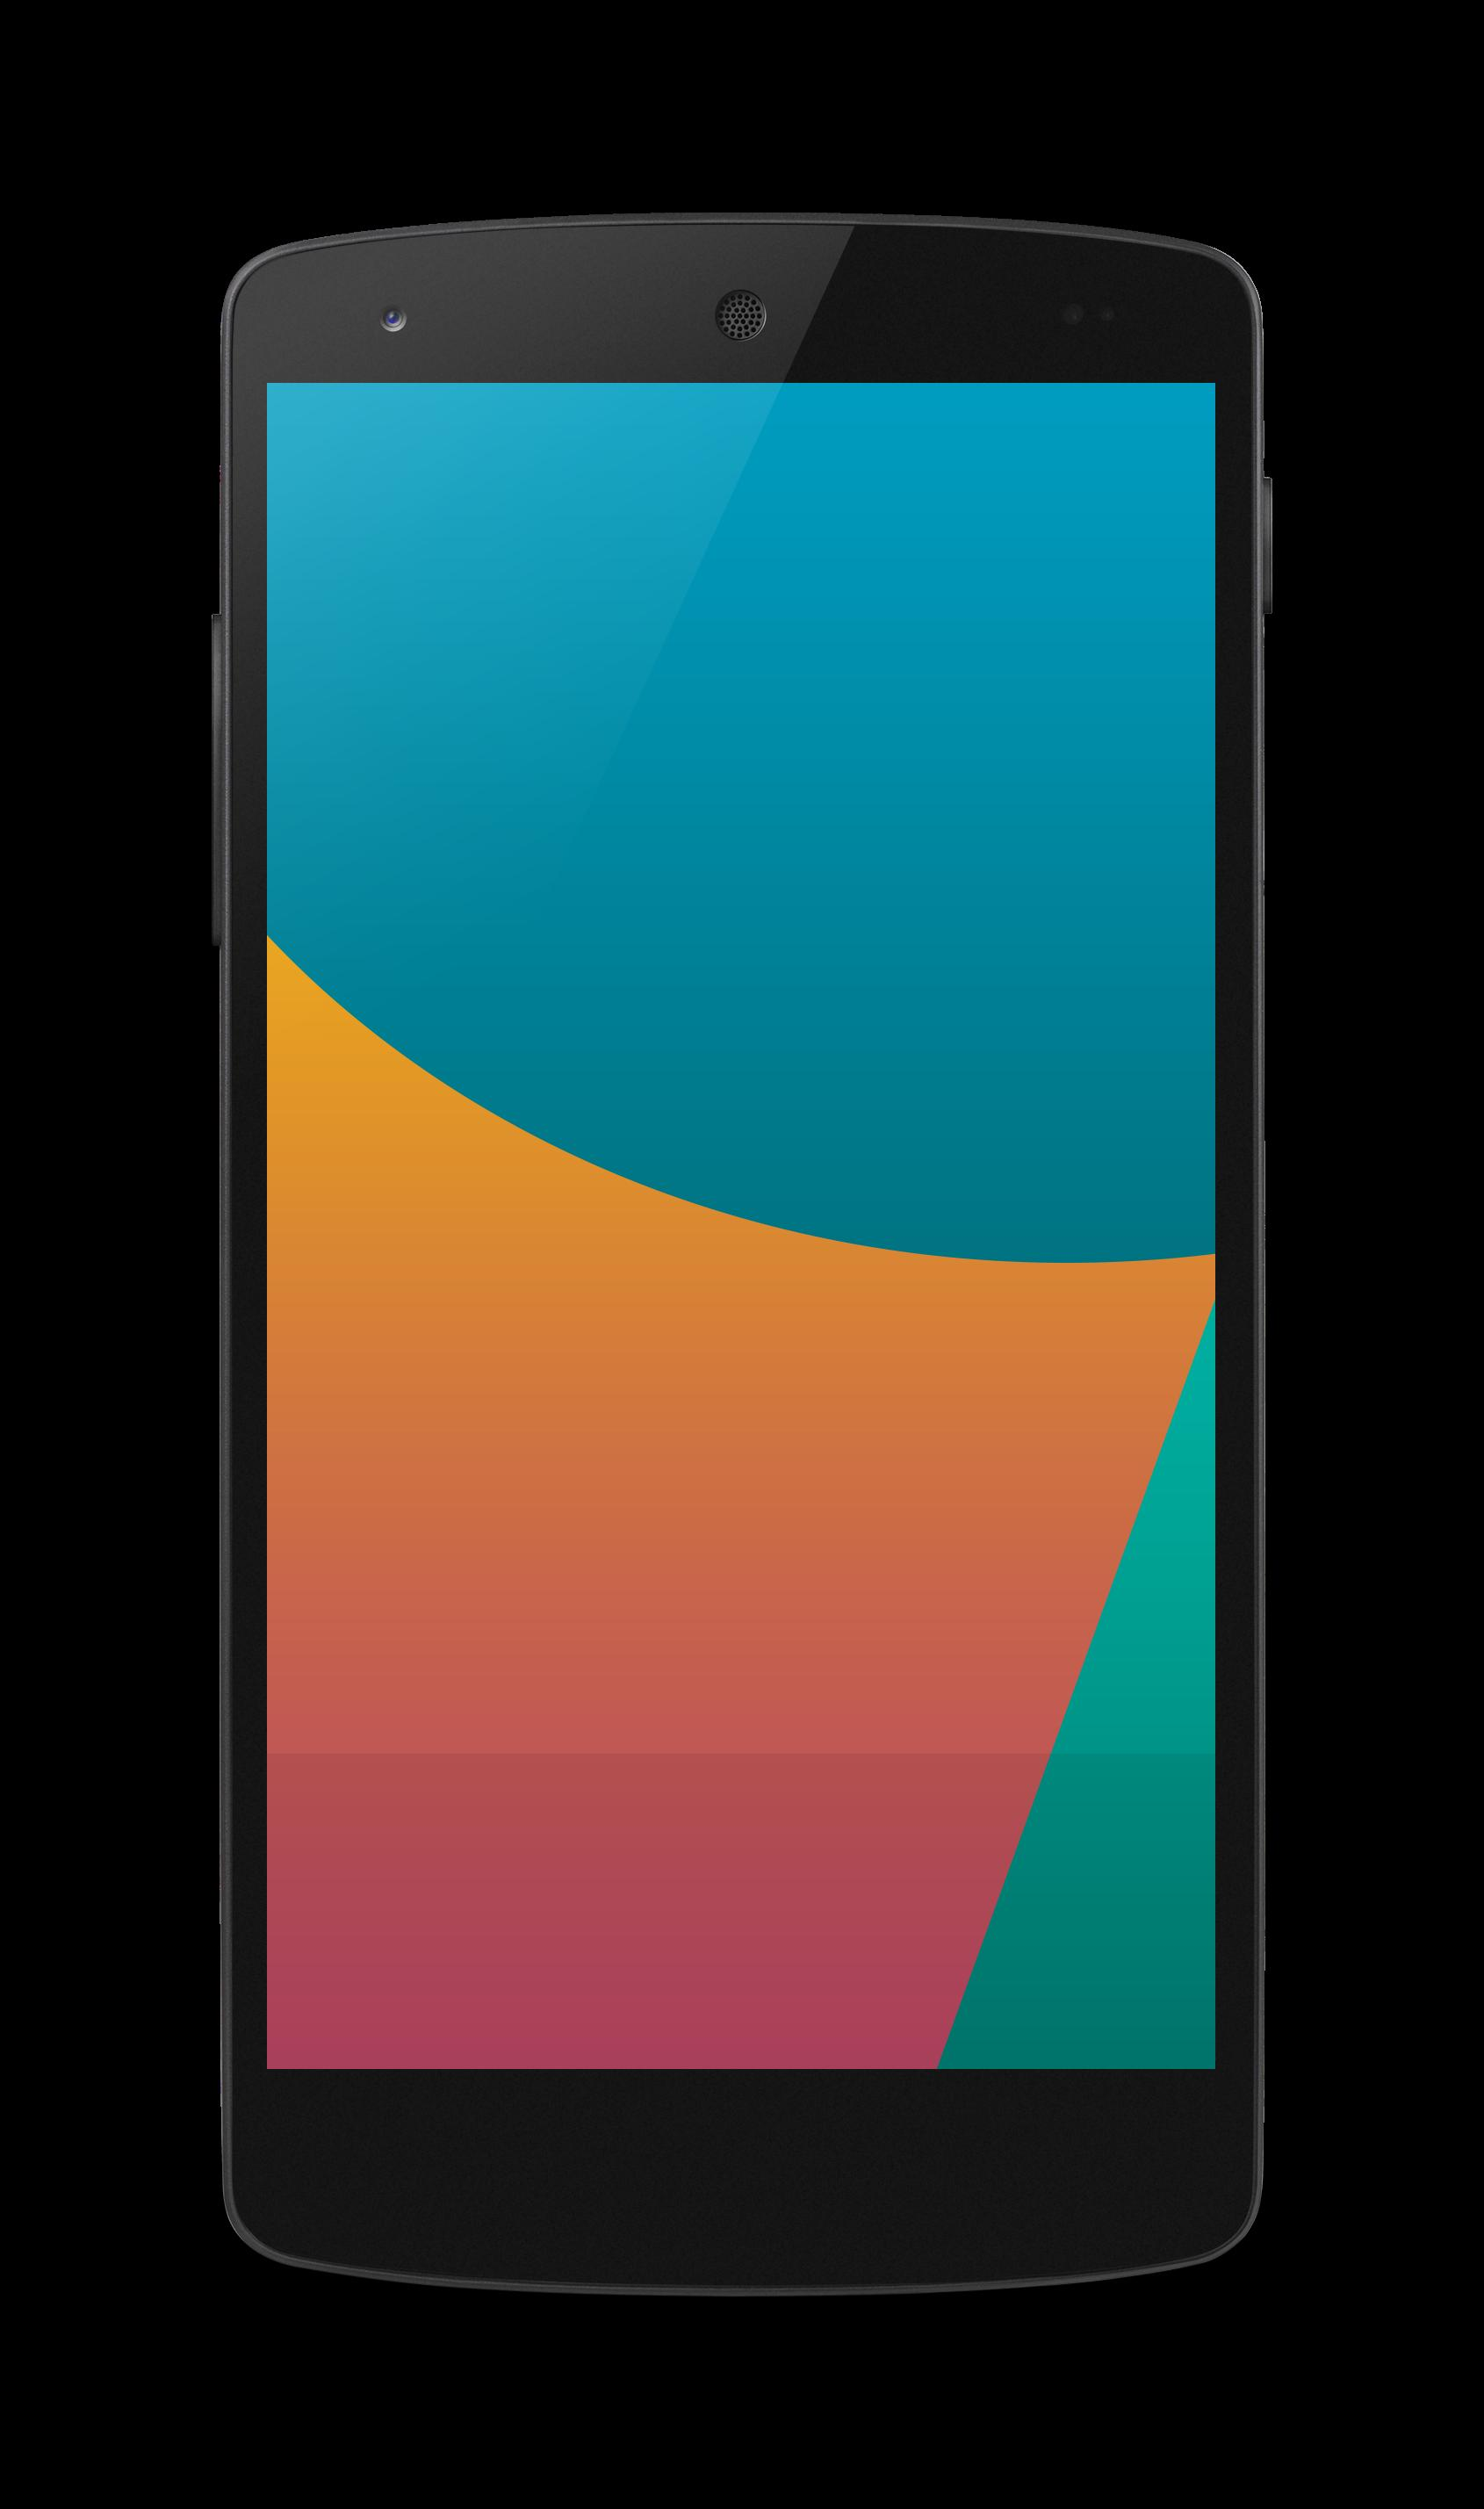Smart Phone: (207, 210, 1276, 2304)
